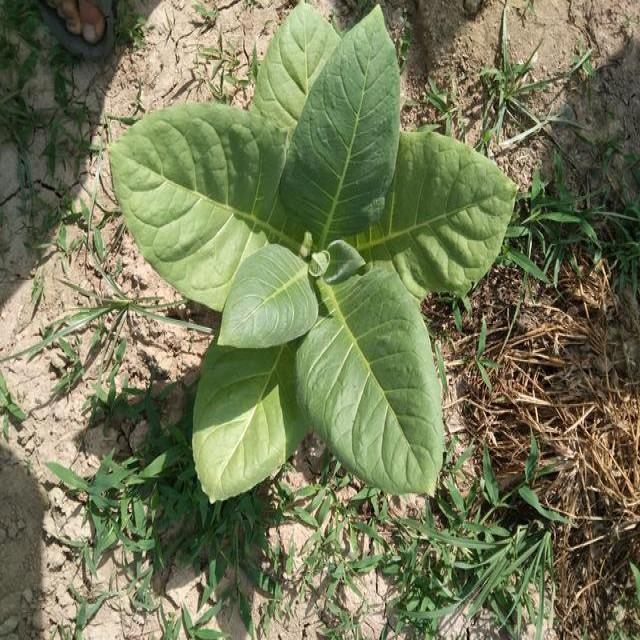crop: (103, 0, 520, 513)
